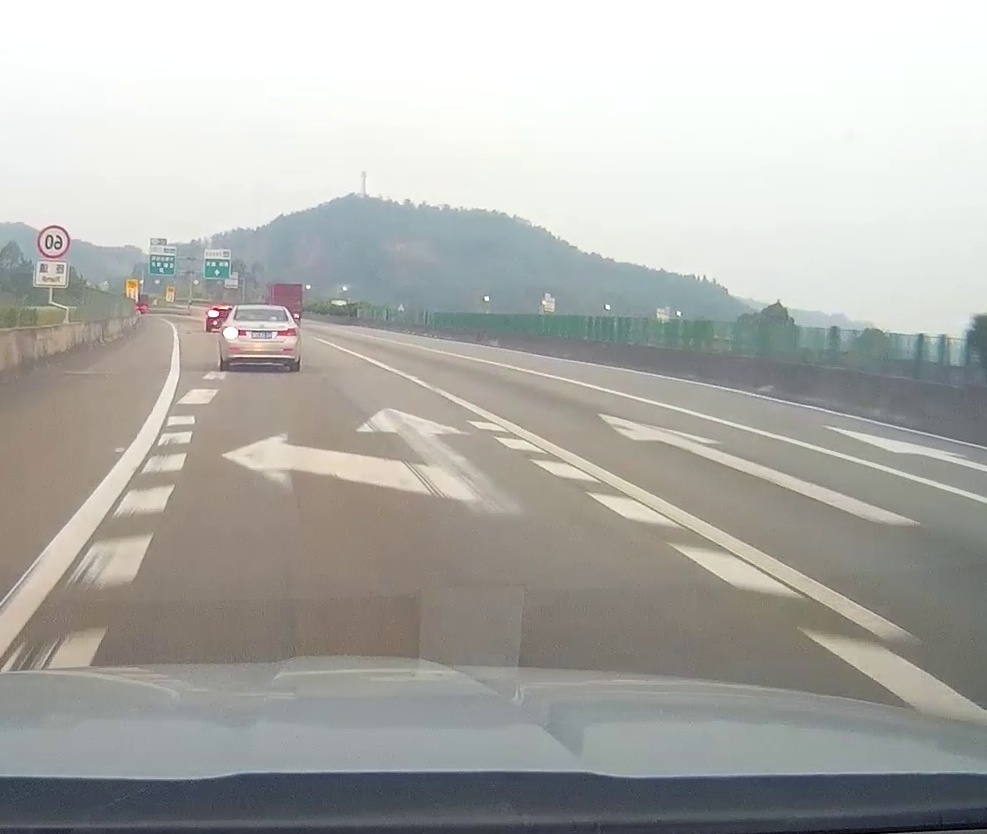L_light: (222, 327, 247, 339)
R_light: (276, 327, 298, 337)
T_light: (255, 317, 267, 321)
day-left: (219, 304, 301, 372)
